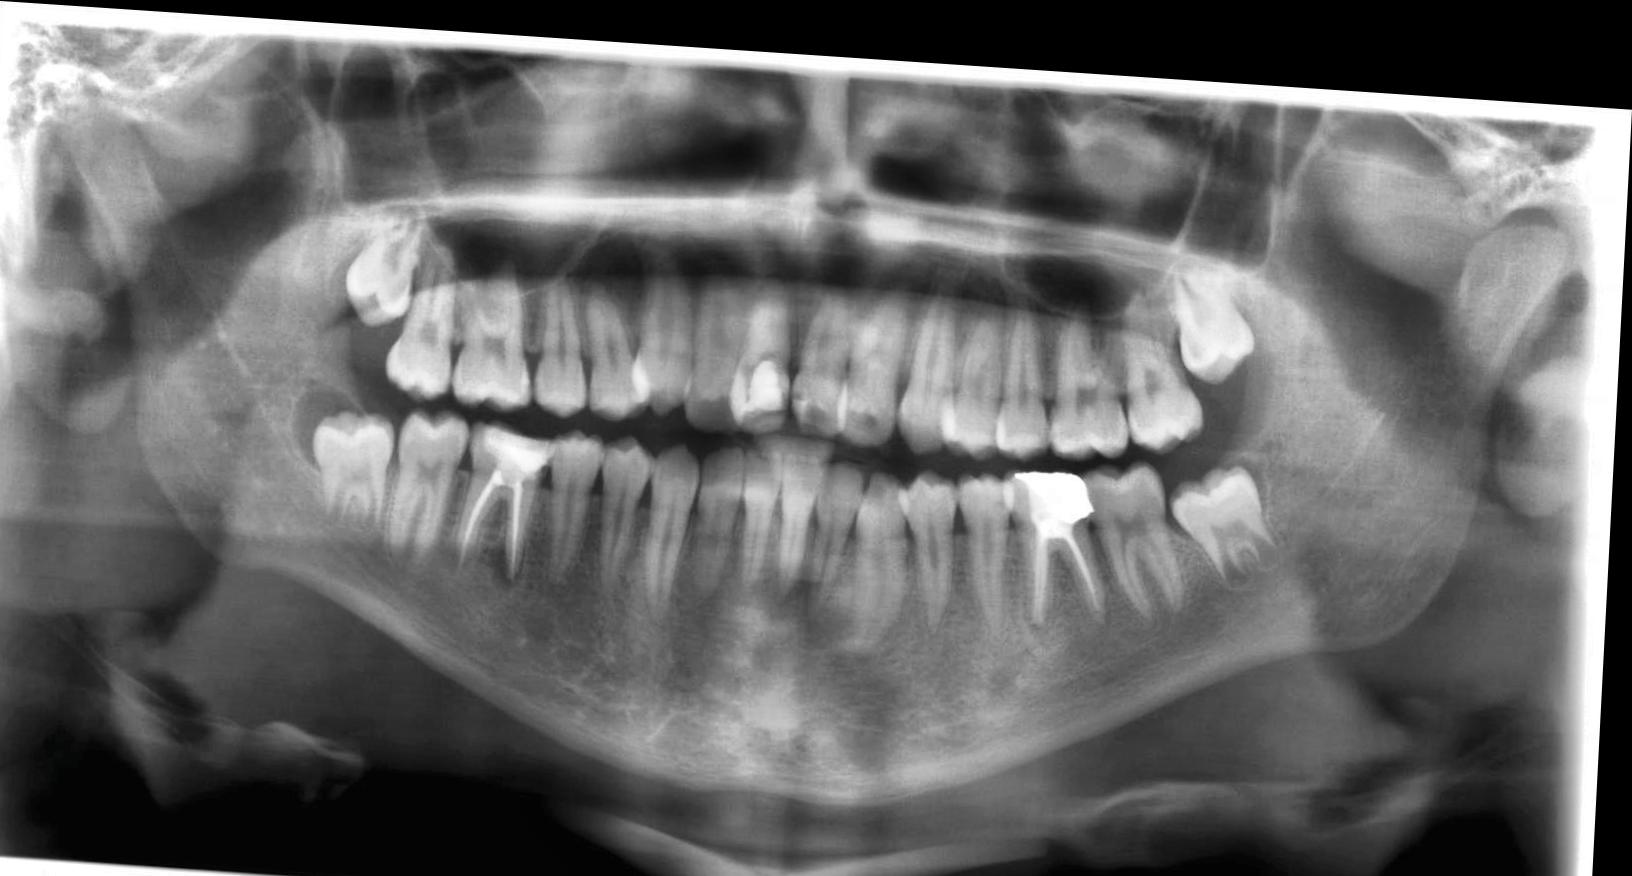dentigerous: (289, 373, 375, 475)
